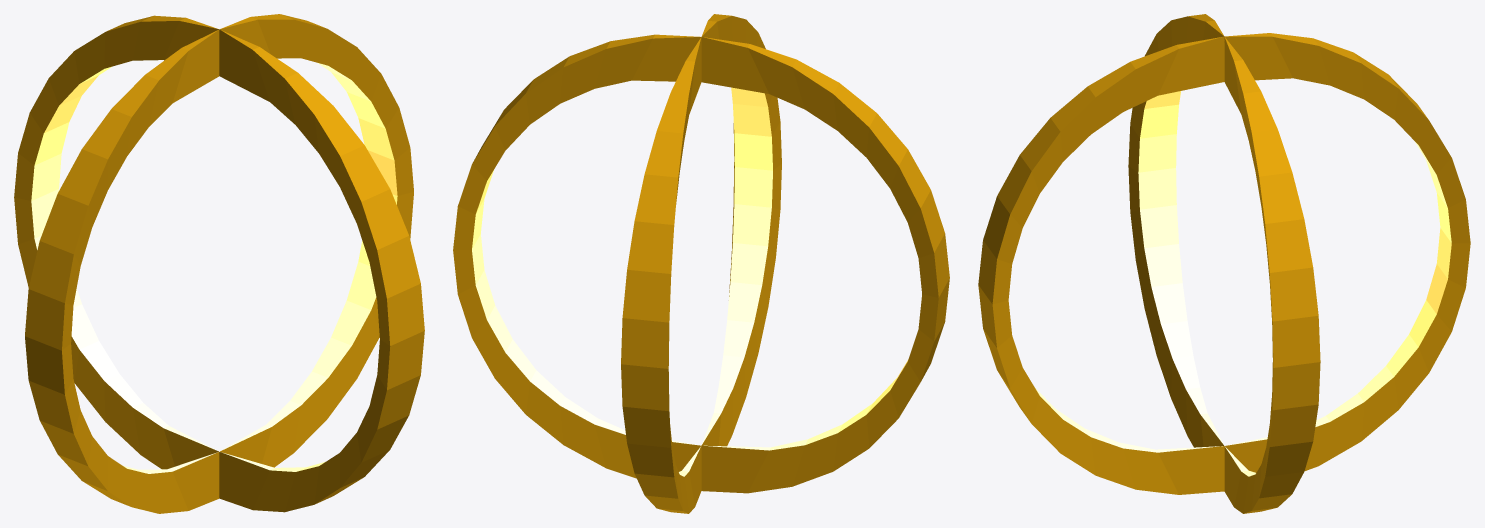
Rendered from ring2.glb.
The picture shows the model from 3 angles, left to right: view 1: azimuth 30°, elevation 25°; view 2: azimuth 150°, elevation 25°; view 3: azimuth 270°, elevation 25°; orthographic projection. The views are drawn at different scales.
Parts seen in each view (by area): view 1: ring2; view 2: ring2; view 3: ring2.
Part boxes in pixels (left/top/right/bottom): ring2: left=14, top=14, right=424, bottom=513; ring2: left=453, top=14, right=949, bottom=513; ring2: left=978, top=14, right=1470, bottom=513.
Size of the model in its own units: 1.96 by 2 by 1.96.
